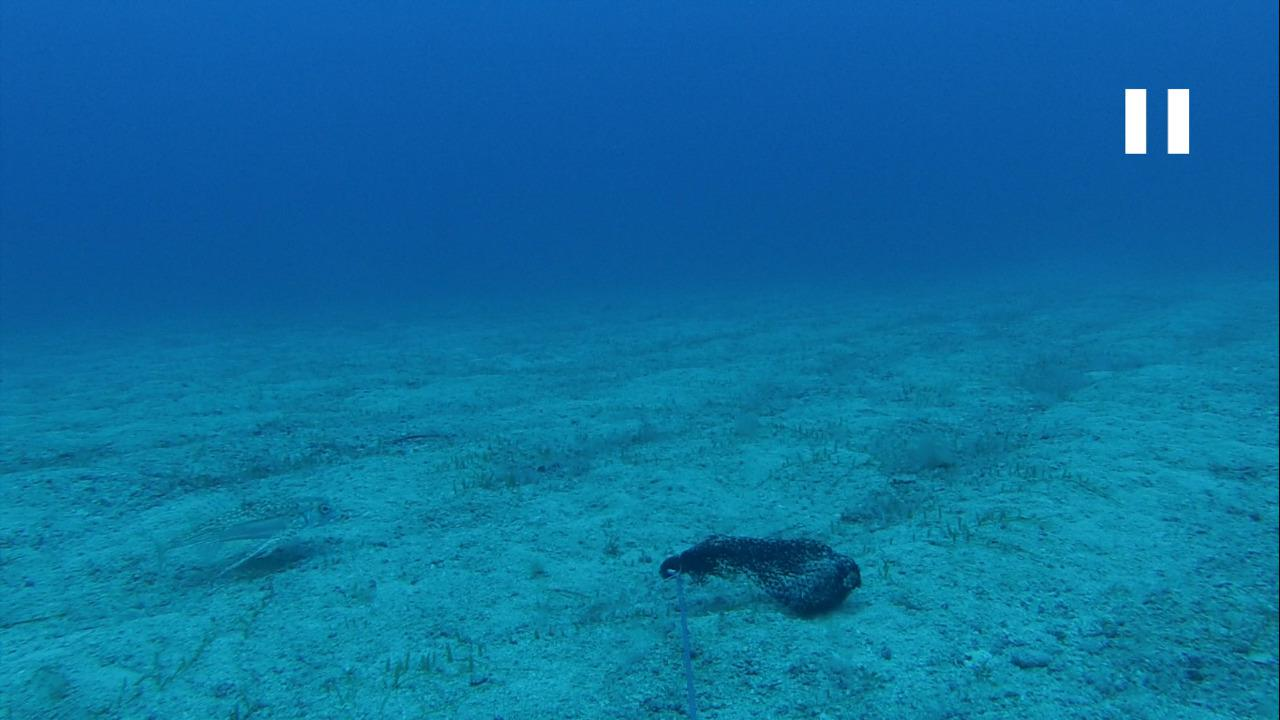dactylopterus: (147, 490, 343, 575)
